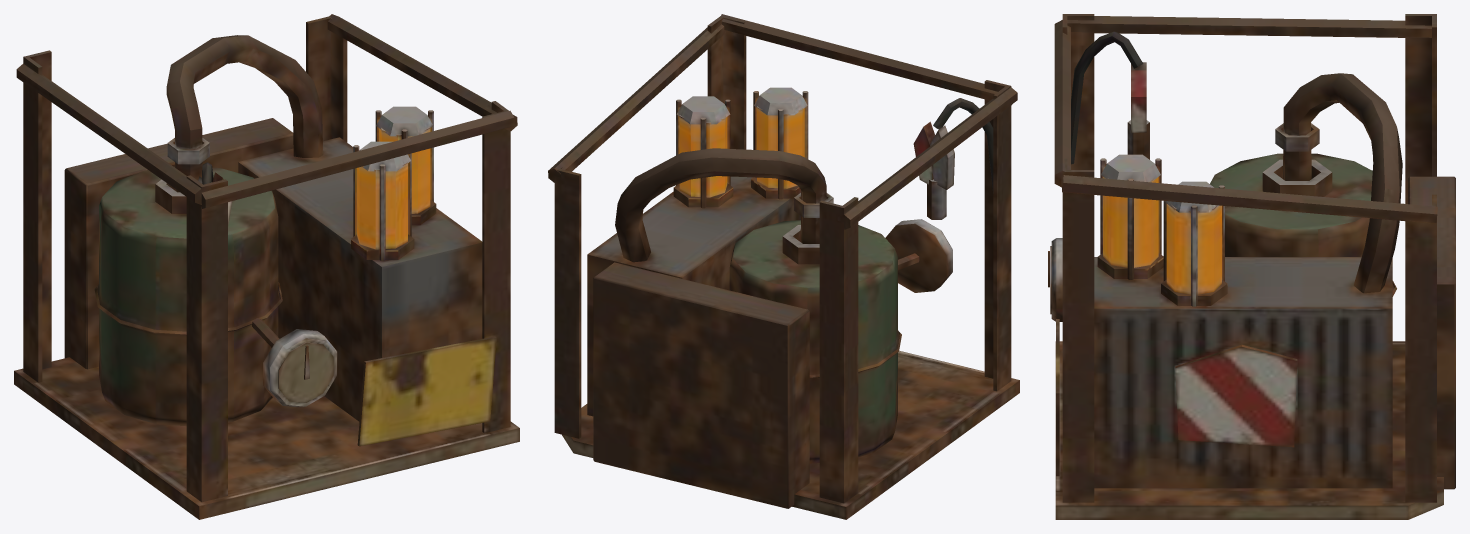
File: R4X_Battery_LOD1.glb
3 renders of one model, left to right at view 1: azimuth 30°, elevation 25°; view 2: azimuth 150°, elevation 25°; view 3: azimuth 270°, elevation 25°, orthographic. The views are drawn at different scales.
Visible parts, largest first — view 1: R4X_Battery_LOD1; view 2: R4X_Battery_LOD1; view 3: R4X_Battery_LOD1.
Boxes of the visible parts, x1,y1,x2,y2 form: R4X_Battery_LOD1: (14,14,519,519); R4X_Battery_LOD1: (548,14,1019,519); R4X_Battery_LOD1: (1048,14,1455,519).
Bounding box in the file's own units: 0.4928 × 0.482 × 0.5145.
Materials: 5 (5 with a texture image).
